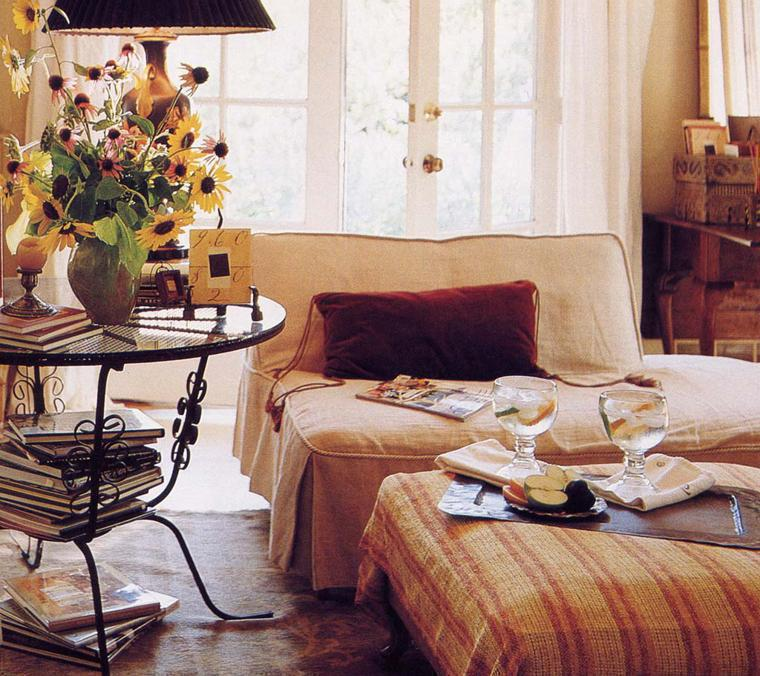Puerta: (415, 2, 566, 228)
